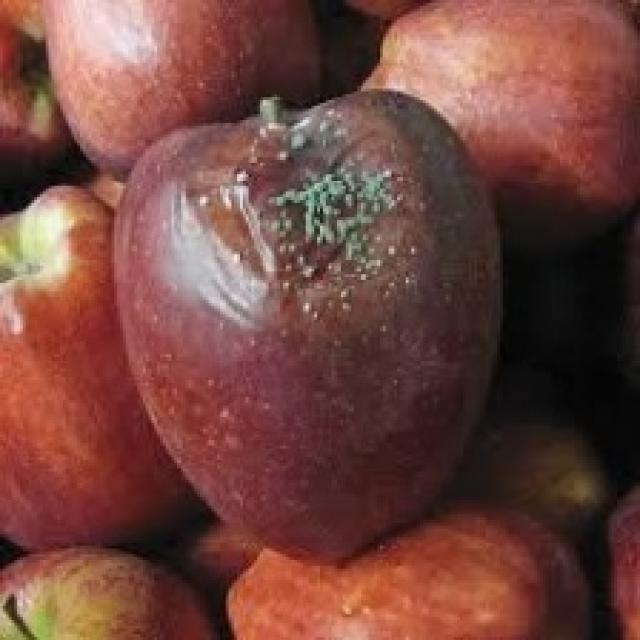rotten_apple: (118, 90, 497, 562)
